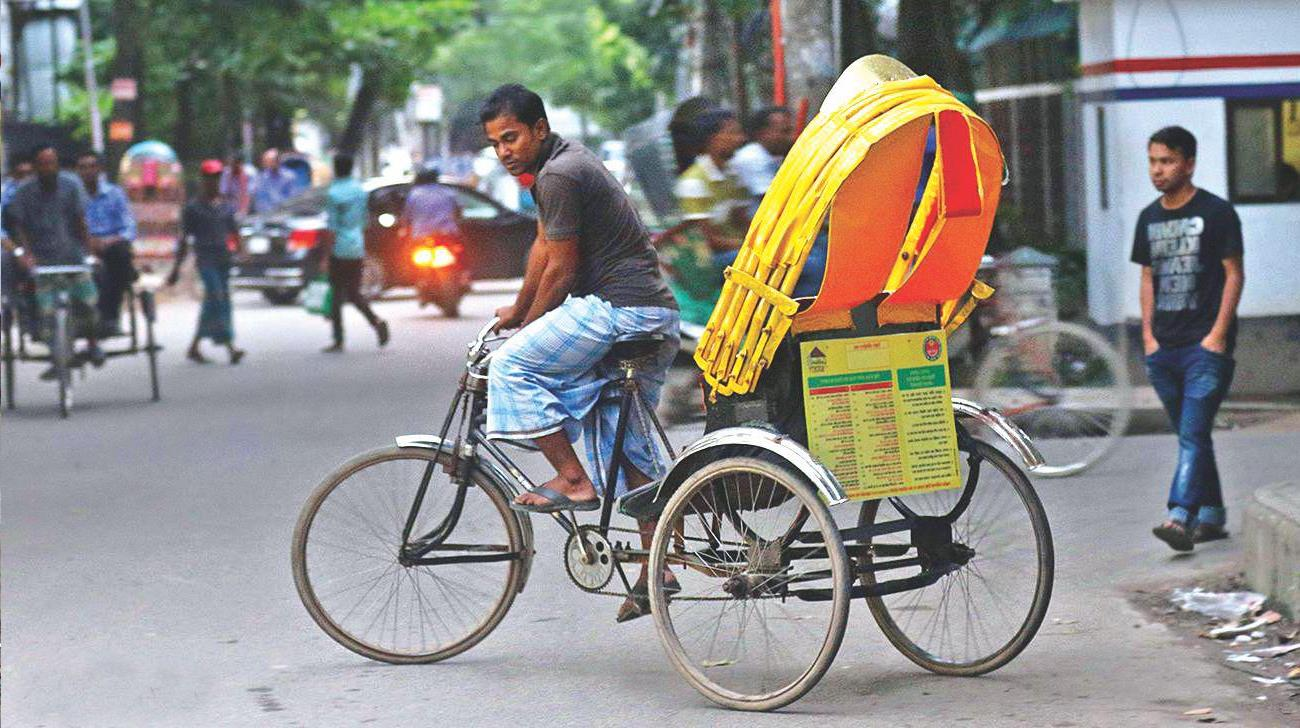Rickshaw: (291, 51, 1065, 714), (3, 149, 167, 427), (617, 91, 787, 263), (114, 132, 188, 276), (234, 140, 330, 213)
